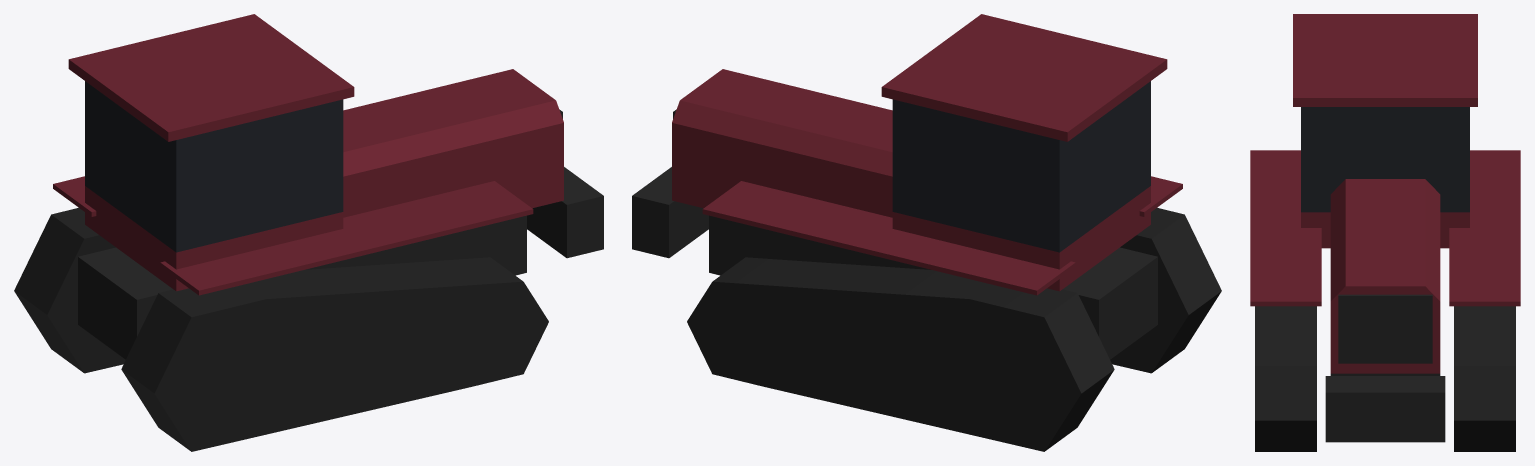
Rendered from SM_Prop_farm_tractortrack_1_LOD2.glb.
The picture shows the model from 3 angles, left to right: view 1: azimuth 30°, elevation 25°; view 2: azimuth 150°, elevation 25°; view 3: azimuth 270°, elevation 25°; orthographic projection. The views are drawn at different scales.
Parts seen in each view (by area): view 1: SM_Prop_farm_tractortrack_1_LOD2; view 2: SM_Prop_farm_tractortrack_1_LOD2; view 3: SM_Prop_farm_tractortrack_1_LOD2.
Part boxes in pixels (<box>): SM_Prop_farm_tractortrack_1_LOD2: <box>14,14,603,451</box>; SM_Prop_farm_tractortrack_1_LOD2: <box>632,14,1221,451</box>; SM_Prop_farm_tractortrack_1_LOD2: <box>1250,14,1520,451</box>.
Bounding box in the file's own units: 5.25 × 3.18 × 2.72.
